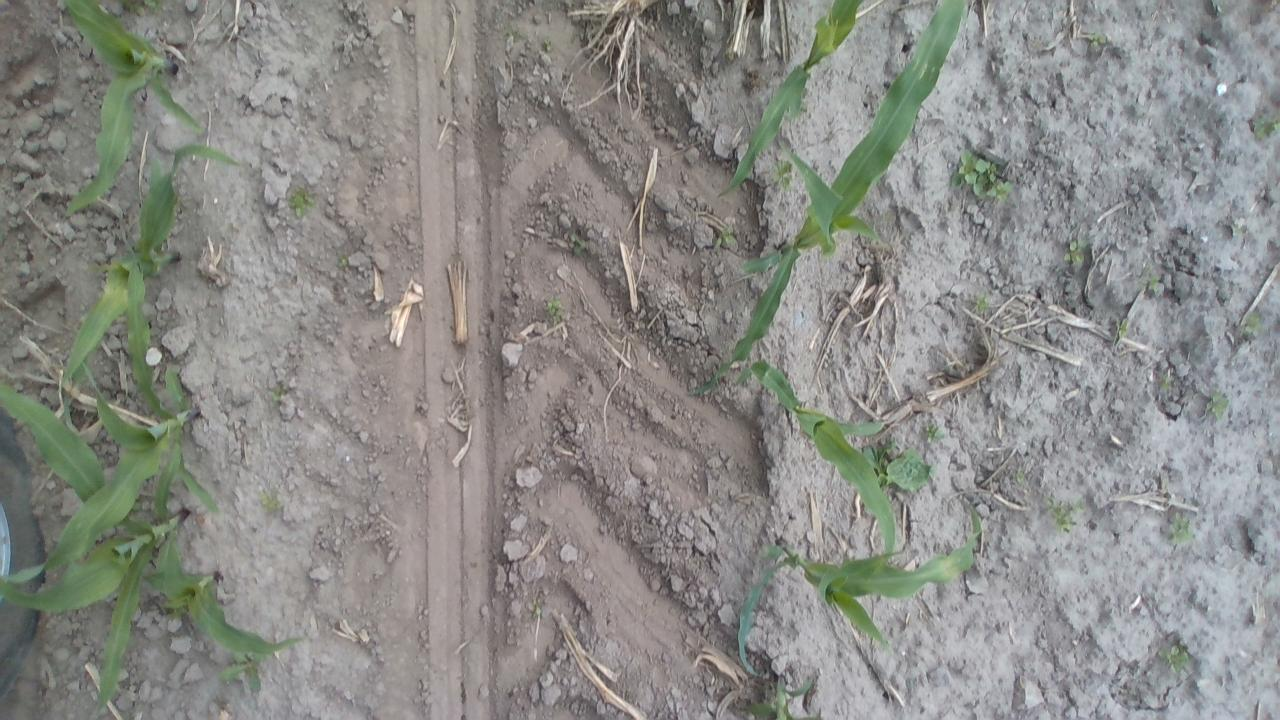Maize: (689, 0, 986, 397), (0, 358, 309, 718), (2, 343, 230, 585), (57, 137, 248, 409), (732, 502, 989, 675), (51, 0, 215, 215), (744, 356, 908, 570), (716, 0, 884, 198), (741, 668, 826, 720)
Weeds: (867, 435, 938, 494), (950, 144, 1016, 206), (217, 652, 268, 692), (1044, 494, 1090, 536), (1156, 640, 1194, 672), (1161, 511, 1195, 546), (284, 184, 317, 220), (1237, 307, 1267, 340), (1204, 390, 1234, 422), (1251, 109, 1280, 142), (542, 294, 570, 326), (772, 156, 796, 190), (564, 227, 590, 257), (1064, 236, 1088, 266), (920, 420, 950, 444), (1137, 272, 1164, 298), (118, 0, 166, 14), (267, 380, 291, 408), (968, 292, 994, 317), (259, 490, 283, 516), (1228, 222, 1252, 244), (1084, 30, 1110, 50), (525, 597, 544, 623), (716, 225, 735, 250), (501, 22, 520, 44), (1158, 371, 1176, 394), (1010, 466, 1030, 485), (336, 249, 352, 271), (1112, 317, 1128, 336), (136, 1, 168, 10), (540, 34, 556, 52)
